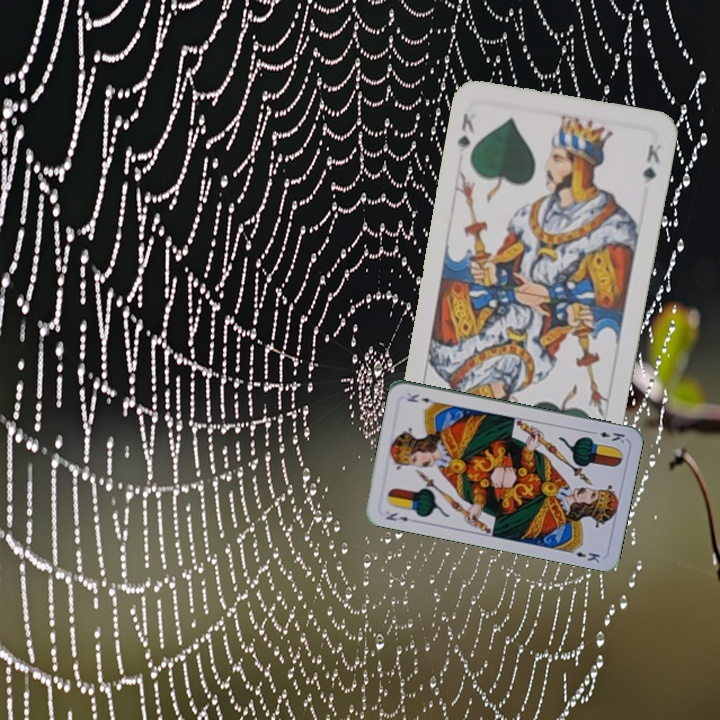EK: (587, 427, 627, 445), (382, 508, 418, 525)
GK: (453, 108, 478, 151)
